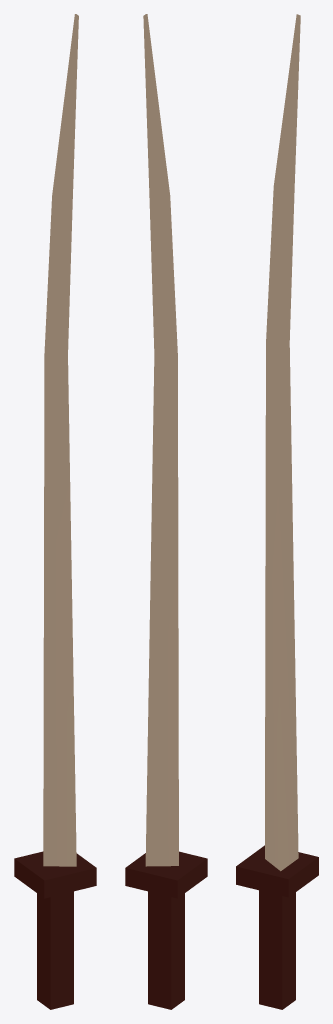
File: Sword.glb
The picture shows the model from 3 angles, left to right: view 1: azimuth 30°, elevation 25°; view 2: azimuth 150°, elevation 25°; view 3: azimuth 330°, elevation 25°; orthographic projection.
Visible parts, largest first — view 1: sword; view 2: sword; view 3: sword.
Part boxes in pixels (box(x1,y1,x2,y2)): sword: box(14, 14, 96, 1009); sword: box(125, 14, 207, 1009); sword: box(236, 14, 318, 1009).
Bounding box in the file's own units: 0.1107 × 2 × 0.1107.
